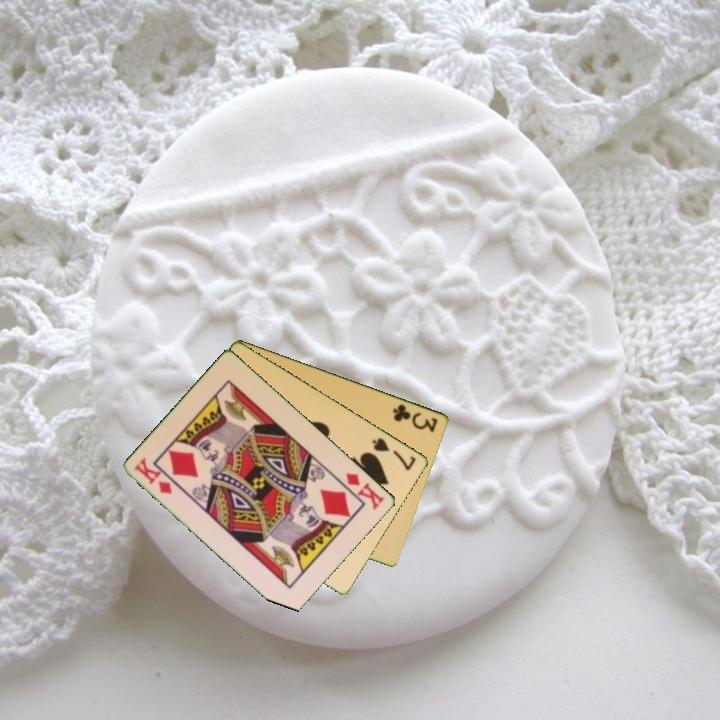3c: (390, 400, 441, 435)
7s: (369, 434, 419, 473)
Kd: (342, 469, 388, 513), (131, 454, 176, 497)
